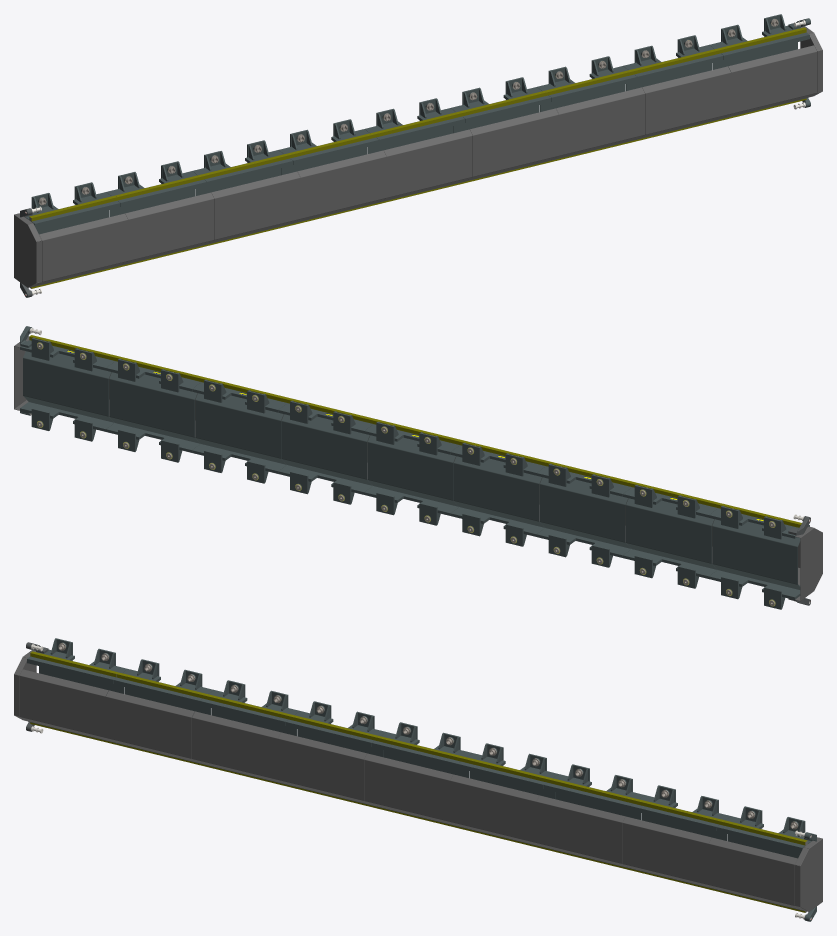
3 renders of one model, top to bottom at view 1: azimuth 30°, elevation 25°; view 2: azimuth 150°, elevation 25°; view 3: azimuth 330°, elevation 25°, orthographic.
Visible parts, largest first — view 1: Cover_Start, Cover_End, Cover_Mid.003, Cover_Mid, Cover_Mid.001, Cover_Mid.002, Cover_Mid.004, Cover_Mid.006, Cover_Mid.005, Track_End, Track_Start, Track_Mid.004 (+6 smaller); view 2: Track_Start, Track_End, Track_Mid.002, Track_Mid.003, Track_Mid.004, Track_Mid.005, Track_Mid.001, Track_Mid, Track_Mid.006, Cover_Start, Cover_End; view 3: Cover_End, Cover_Start, Cover_Mid.005, Cover_Mid.002, Cover_Mid.003, Cover_Mid.004, Cover_Mid.006, Cover_Mid, Cover_Mid.001, Track_Start, Track_End, Track_Mid (+6 smaller).
Boxes of the visible parts, x1,y1,x2,y2 form: Cover_Start: (14,213,128,287); Cover_End: (723,26,822,118); Cover_Mid.003: (379,129,472,202); Cover_Mid: (121,192,214,265); Cover_Mid.001: (207,171,300,244); Cover_Mid.002: (293,150,386,223); Cover_Mid.004: (465,108,558,181); Cover_Mid.006: (637,66,731,139); Cover_Mid.005: (551,87,644,160); Track_End: (709,14,810,120); Track_Start: (20,182,120,297); Track_Mid.004: (451,77,551,183); Track_Start: (709,503,810,609); Track_End: (20,326,116,441); Track_Mid.002: (450,440,547,546); Track_Mid.003: (364,419,461,525); Track_Mid.004: (278,398,375,504); Track_Mid.005: (192,377,289,483); Track_Mid.001: (536,461,633,567); Track_Mid: (623,482,719,588); Track_Mid.006: (106,356,202,462); Cover_Start: (795,526,822,601); Cover_End: (14,336,111,415); Cover_End: (708,837,822,911); Cover_Start: (14,650,113,742); Cover_Mid.005: (536,795,629,868); Cover_Mid.002: (278,732,371,805); Cover_Mid.003: (364,753,457,826); Cover_Mid.004: (450,774,543,847); Cover_Mid.006: (622,816,715,889); Cover_Mid: (105,690,199,763); Cover_Mid.001: (192,711,285,784); Track_Start: (26,638,127,744); Track_End: (716,806,816,921); Track_Mid: (113,659,213,765).
Bounding box in the file's own units: 9.13 × 0.98 × 0.4848.
